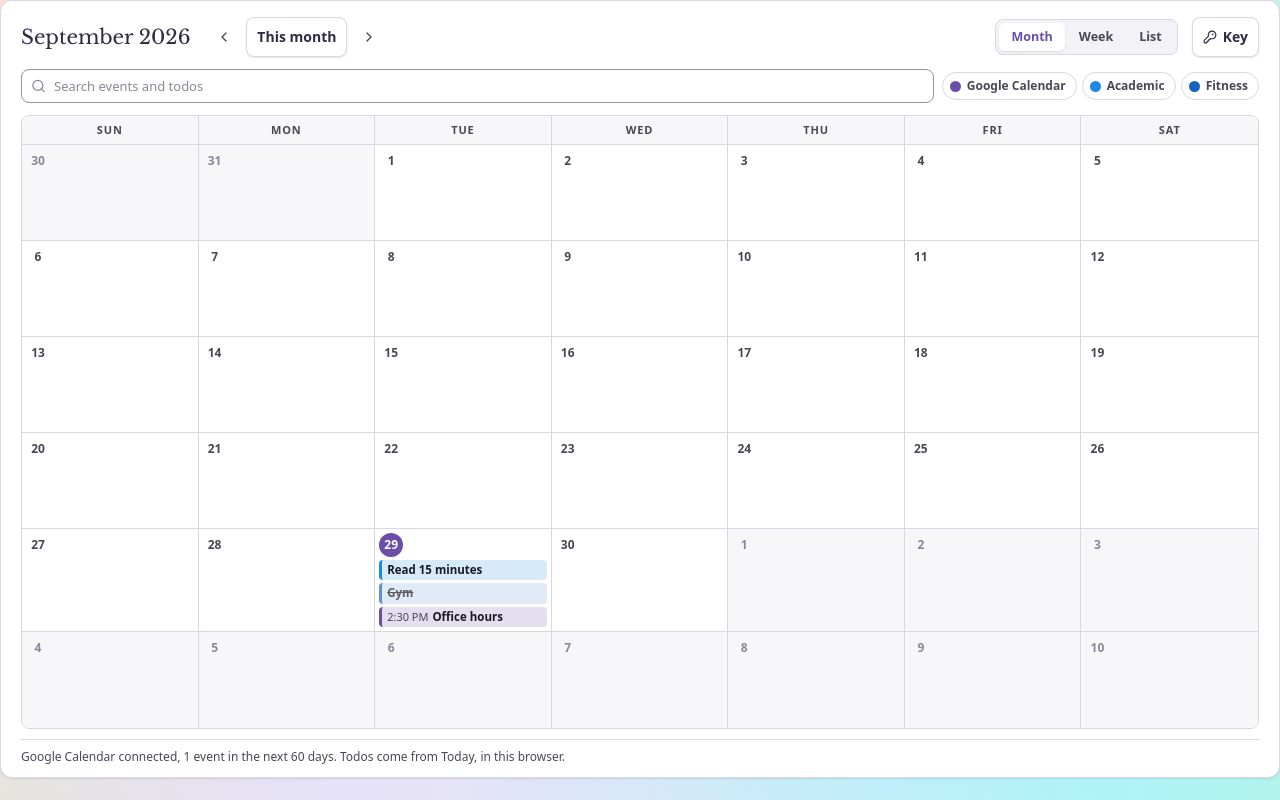
it: the full calendar, ported from the technical instructions master calendar › searches, filters by colour, and says how many are shown
Expected: the button titled "Office hours" is shown, [379,607,547,627]
Step 1. Type "office" into the search field labelled "Search events" → (477, 86), box [21,69,934,103]
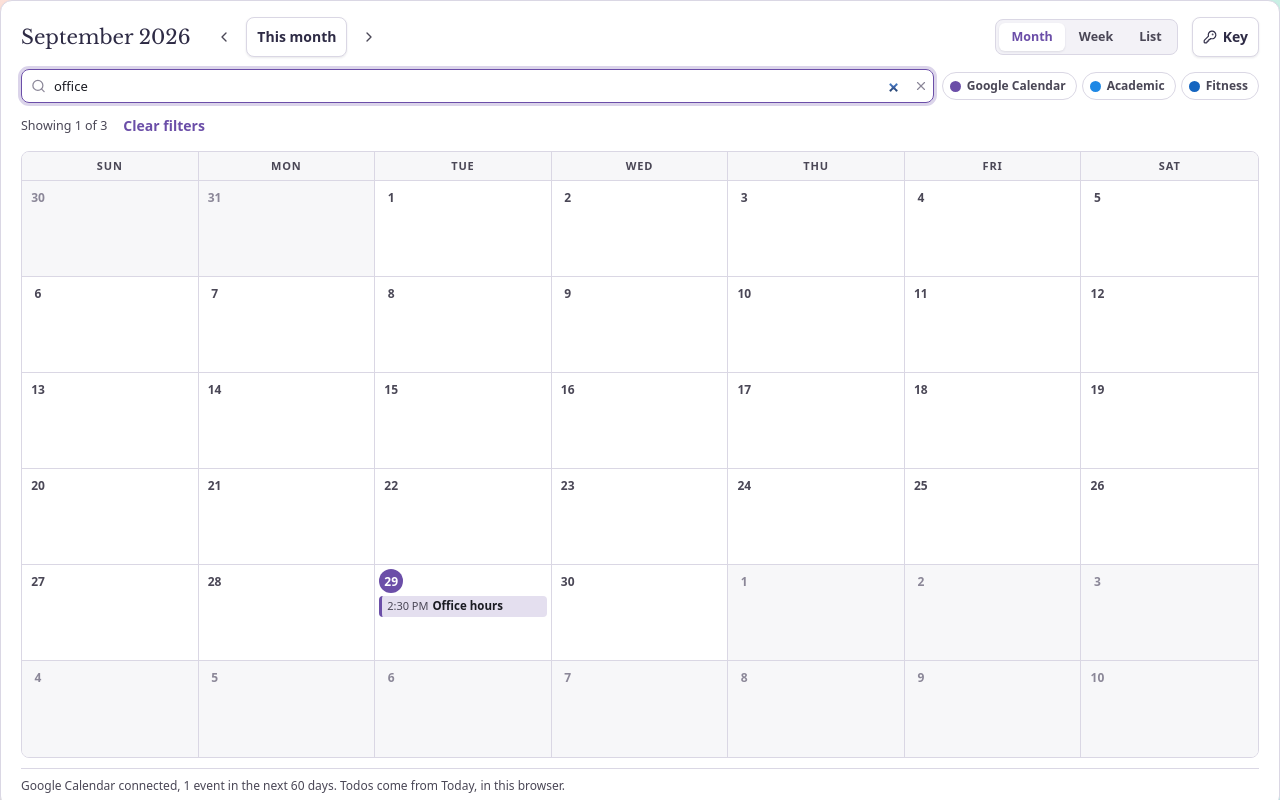
Now the button titled "Read 15 minutes" is gone
Now the text "Showing 1 of 3 Clear filters" is shown, box [21,111,213,141]
Step 2. Click the button named "Clear search" → (917, 86), box [904,73,930,99]
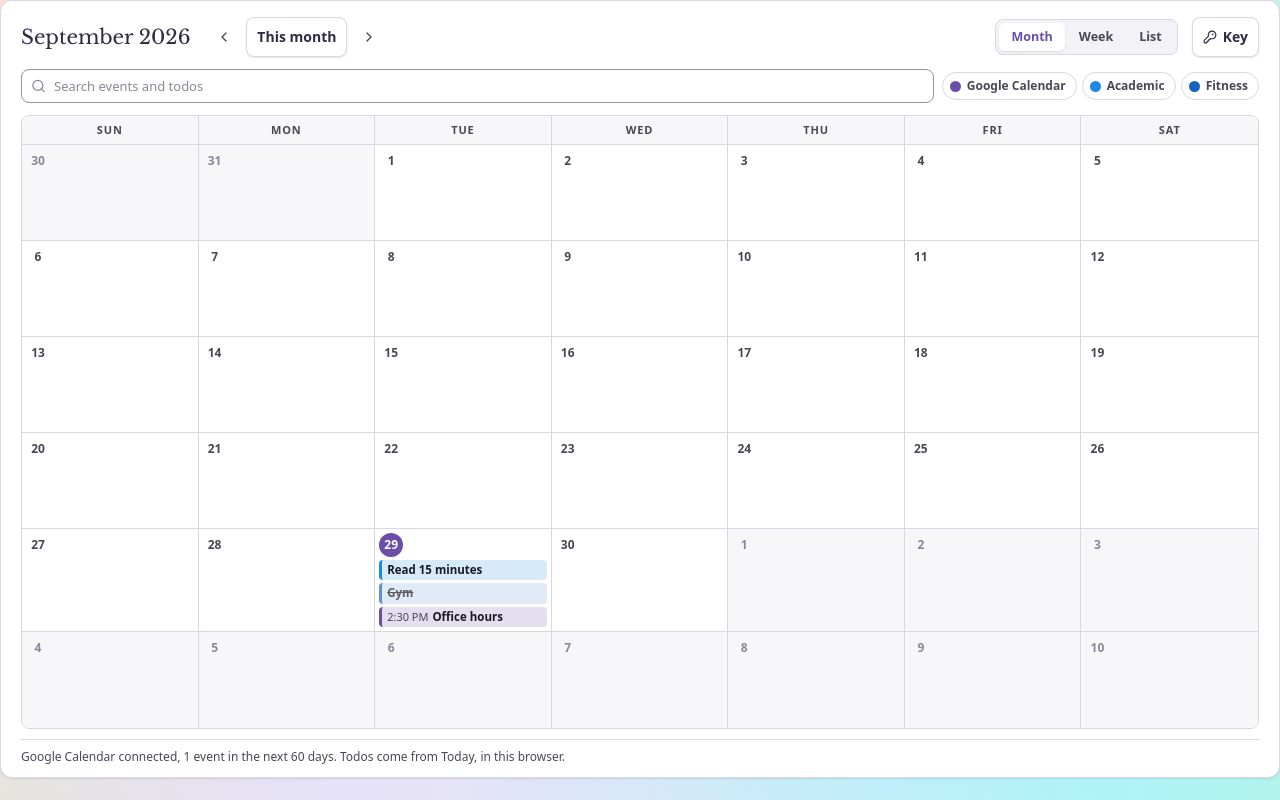
Step 3. Click the button "Academic" → (1129, 86), box [1082,72,1176,100]
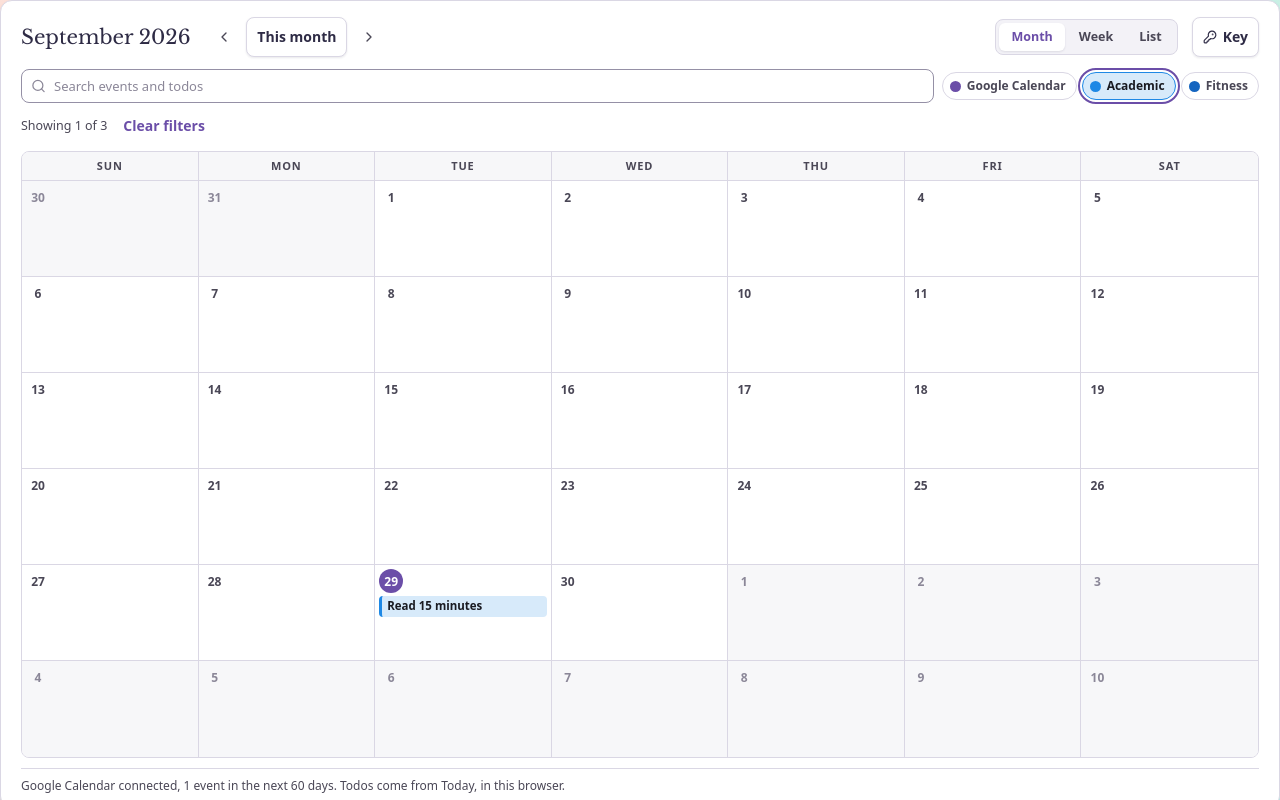
Now the button titled "Read 15 minutes" is shown, box [379,596,547,617]
Now the button titled "Office hours" is gone
Step 4. Click the button "Clear filters" → (164, 126), box [115,111,213,141]
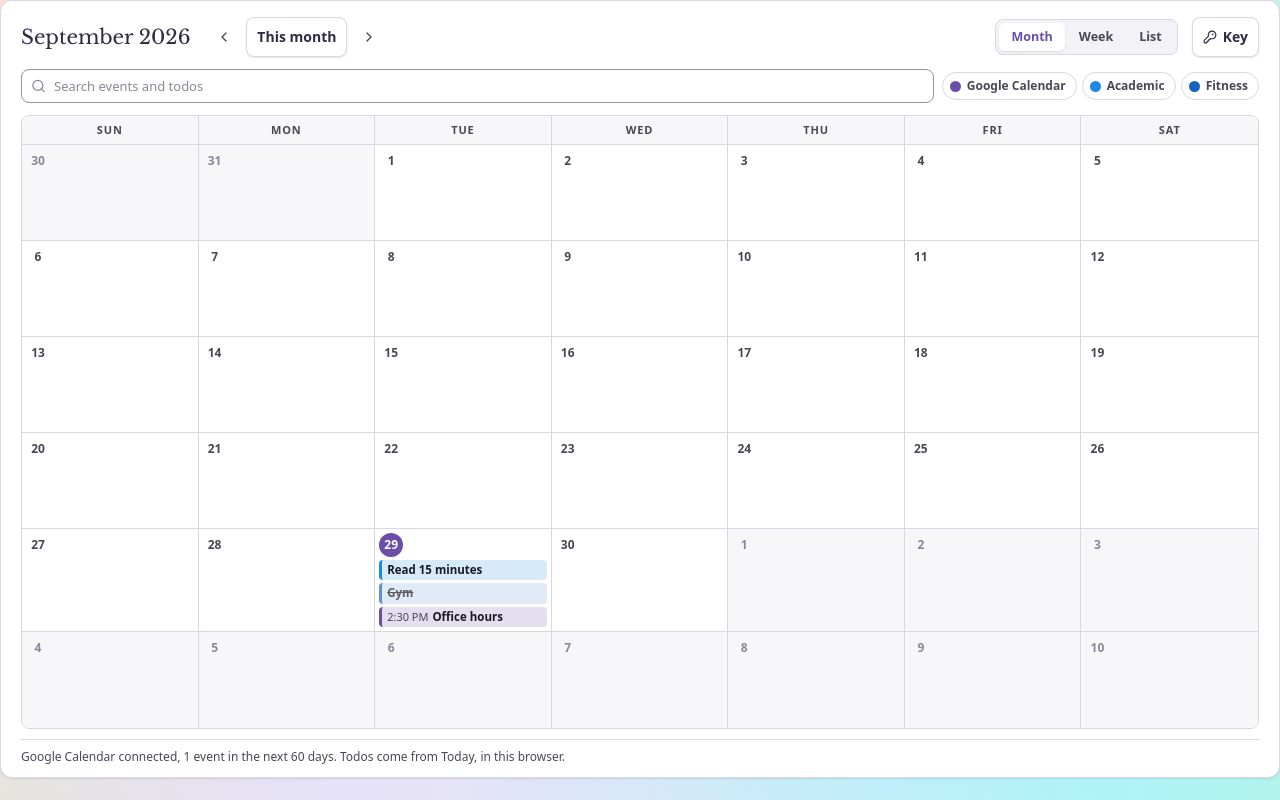
Now the button titled "Office hours" is shown, box [379,607,547,627]
